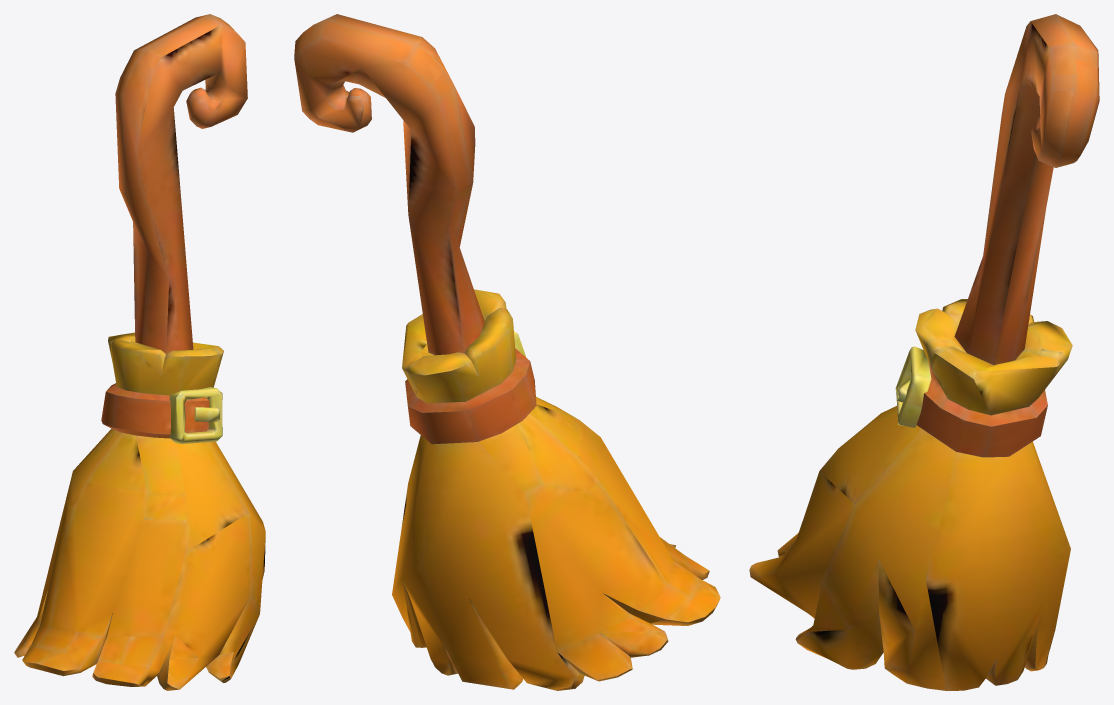
File: kit-broom.lod.glb
3 views of the same model, side by side, from view 1: azimuth 30°, elevation 25°; view 2: azimuth 150°, elevation 25°; view 3: azimuth 270°, elevation 25° (orthographic). The views are drawn at different scales.
Parts seen in each view (by area): view 1: WBA_Witch_Broom_Set_01_WBA_MAT_Halloween_Atlas_0.001; view 2: WBA_Witch_Broom_Set_01_WBA_MAT_Halloween_Atlas_0.001; view 3: WBA_Witch_Broom_Set_01_WBA_MAT_Halloween_Atlas_0.001.
Boxes of the visible parts, x1,y1,x2,y2 form: WBA_Witch_Broom_Set_01_WBA_MAT_Halloween_Atlas_0.001: [14, 14, 265, 690]; WBA_Witch_Broom_Set_01_WBA_MAT_Halloween_Atlas_0.001: [294, 14, 720, 690]; WBA_Witch_Broom_Set_01_WBA_MAT_Halloween_Atlas_0.001: [749, 14, 1099, 690].
Bounding box in the file's own units: 0.3906 × 0.7338 × 0.3425.
1 material, 1 textured.
